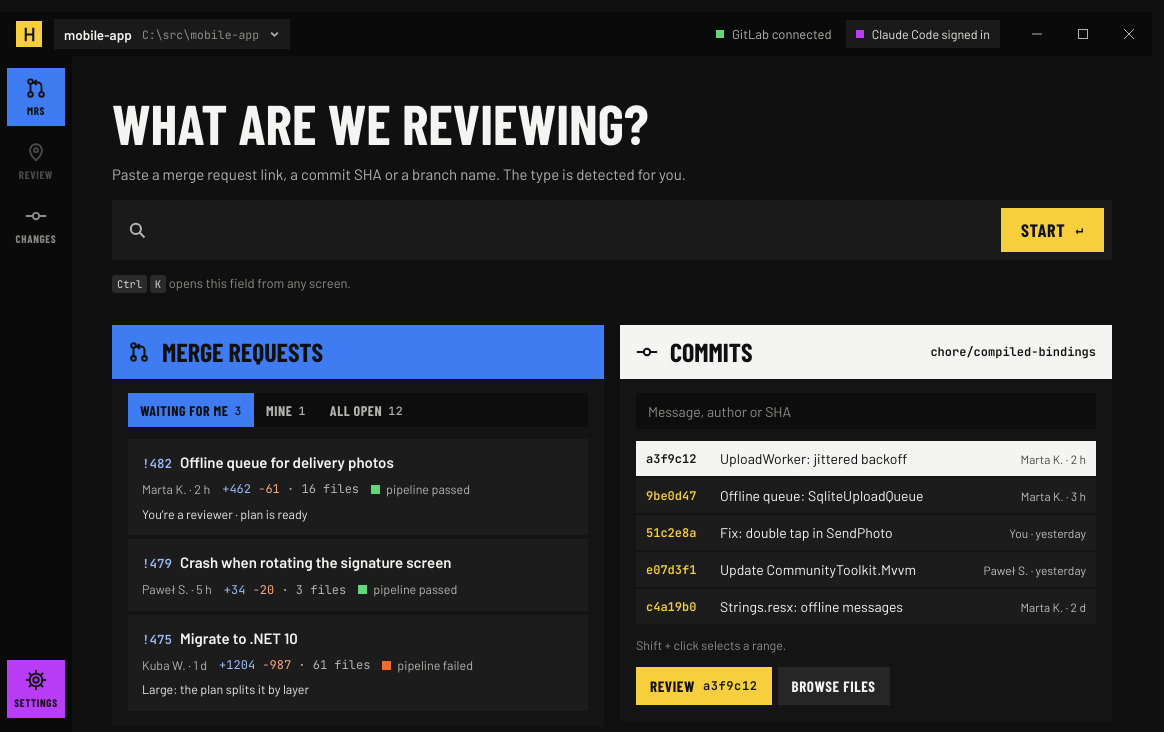
Scenario: S-01 title bar › F-30.7 Escape and a click outside close the menu
The image size is (1164, 732).
Click the button with aria-label "Repository mobile-app": (172, 34) [54,19,290,49]
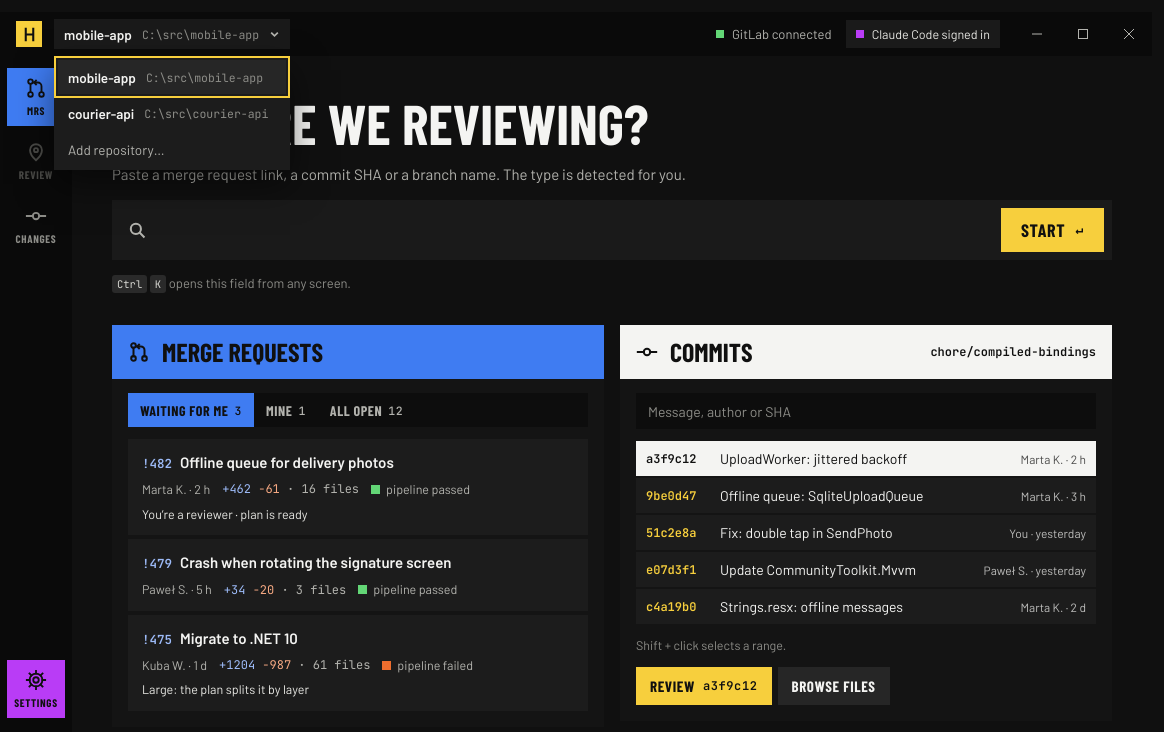
Press Escape
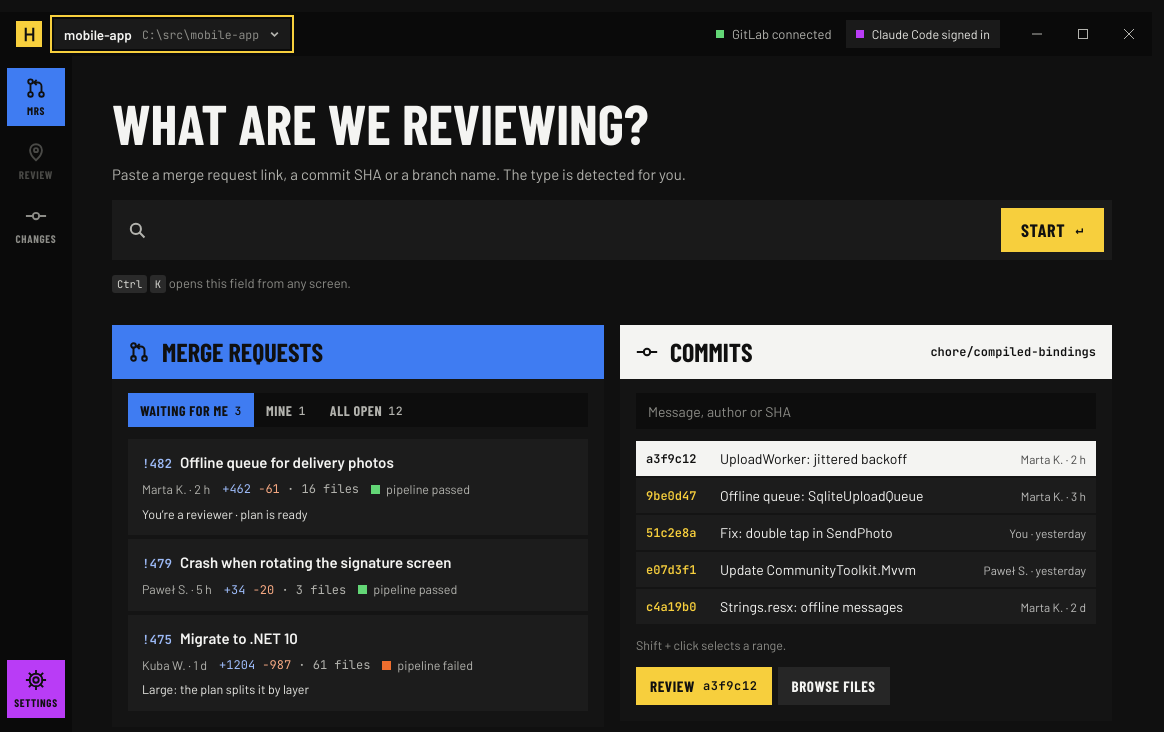
Expected: the menu is gone
Click the button with aria-label "Repository mobile-app": (172, 34) [54,19,290,49]
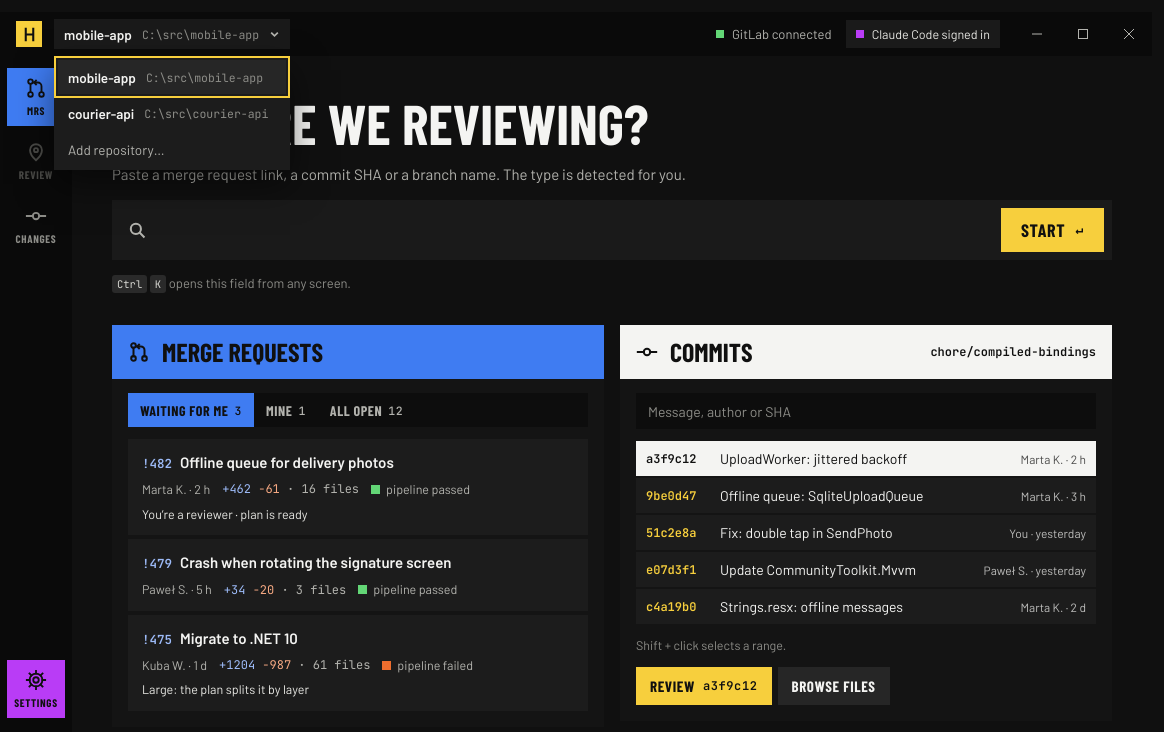
Click the text "GitLab connected": (774, 34) [716,25,832,43]
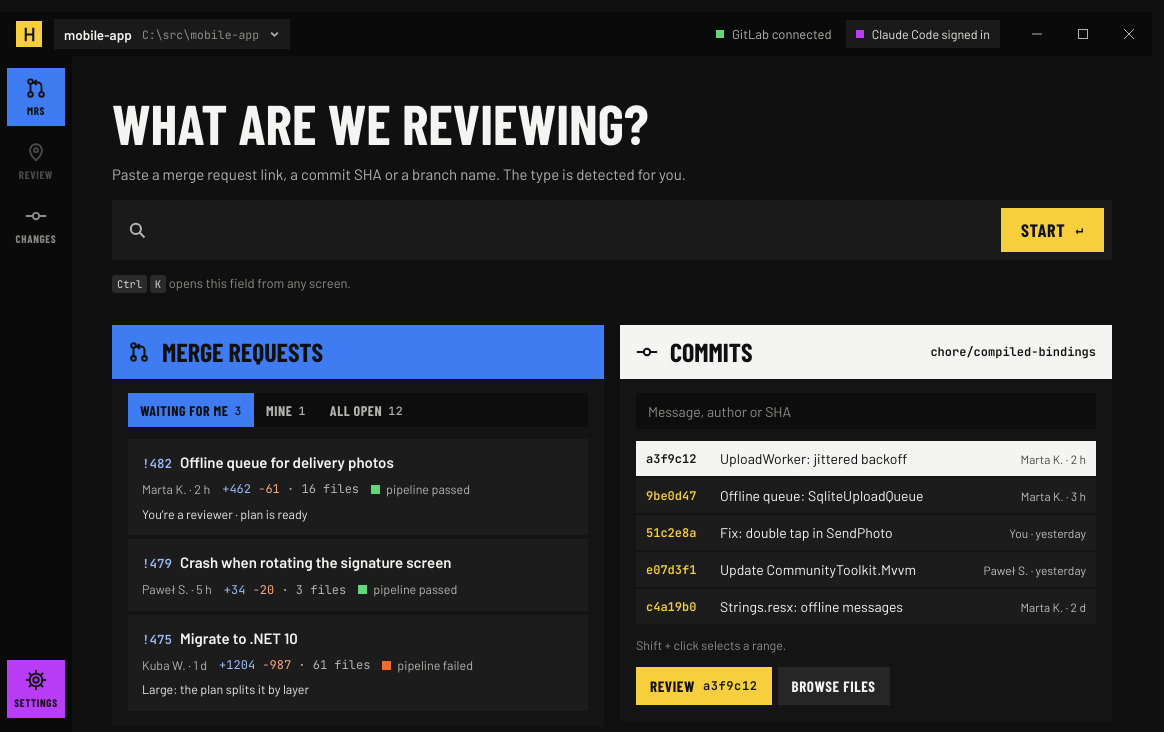
Expected: the menu is gone
